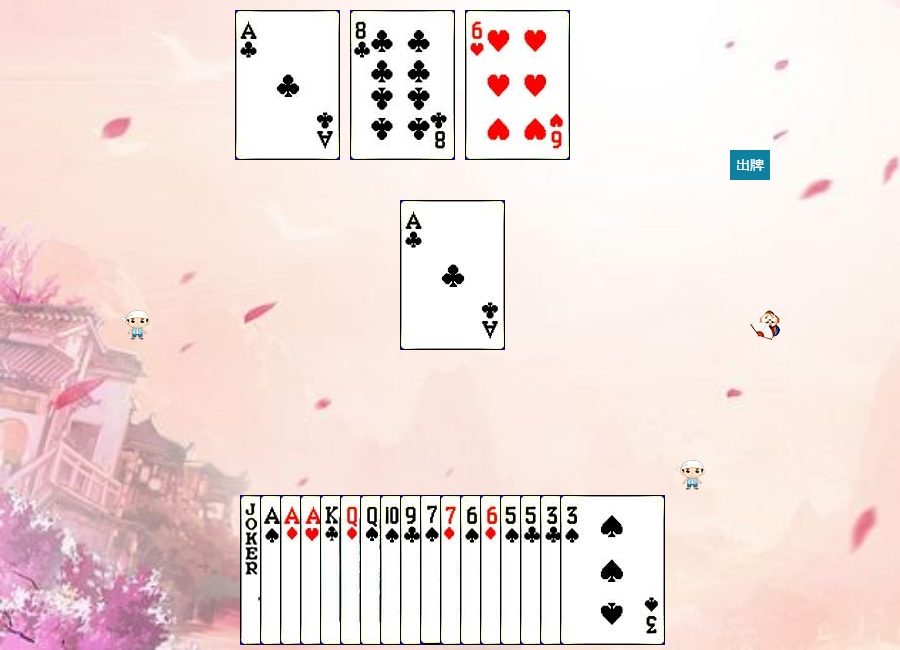10~4: (380, 495, 485, 645)
12~1: (340, 495, 445, 645)
12~4: (360, 495, 465, 645)
13~2: (320, 495, 425, 645)
14~1: (280, 495, 385, 645)
14~2: (235, 10, 340, 160), (400, 200, 505, 350)
14~3: (300, 495, 405, 645)
14~4: (260, 495, 365, 645)
17~3: (240, 495, 345, 645)
3~2: (540, 495, 645, 645)
3~4: (560, 495, 665, 645)
5~2: (520, 495, 625, 645)
5~4: (500, 495, 605, 645)
6~1: (480, 495, 585, 645)
6~3: (465, 10, 570, 160)
6~4: (460, 495, 565, 645)
7~1: (440, 495, 545, 645)
7~4: (420, 495, 525, 645)
8~2: (350, 10, 455, 160)
9~2: (400, 495, 505, 645)
